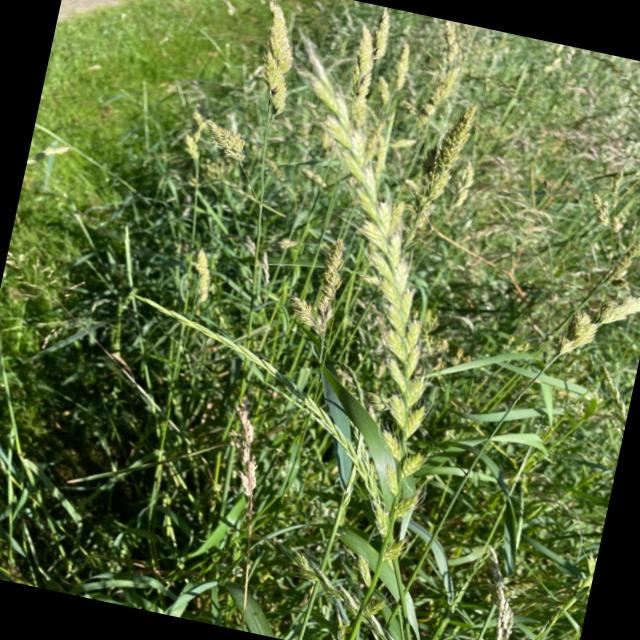Lolium: (106, 0, 640, 640), (228, 88, 498, 560)
